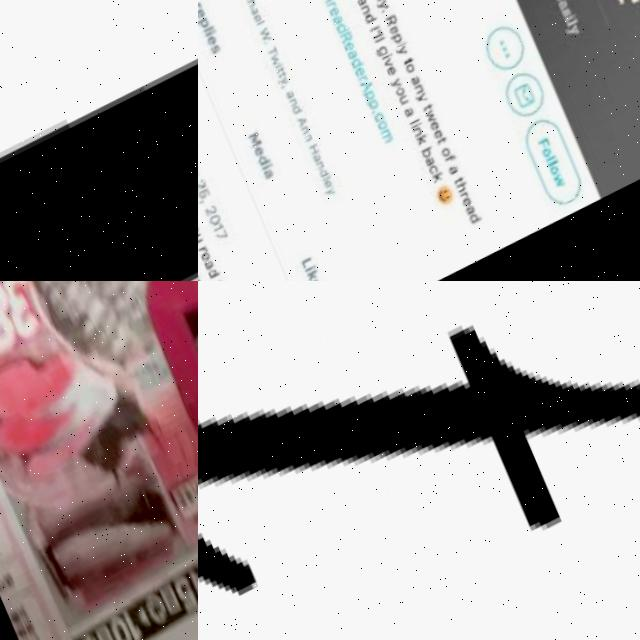0: (210, 216, 223, 229)
1: (0, 0, 198, 281), (214, 225, 226, 236)
2: (205, 208, 218, 221), (198, 180, 208, 194)
5: (198, 190, 211, 204)
7: (215, 232, 229, 244)
O: (133, 281, 198, 481)
T: (198, 281, 640, 640)
